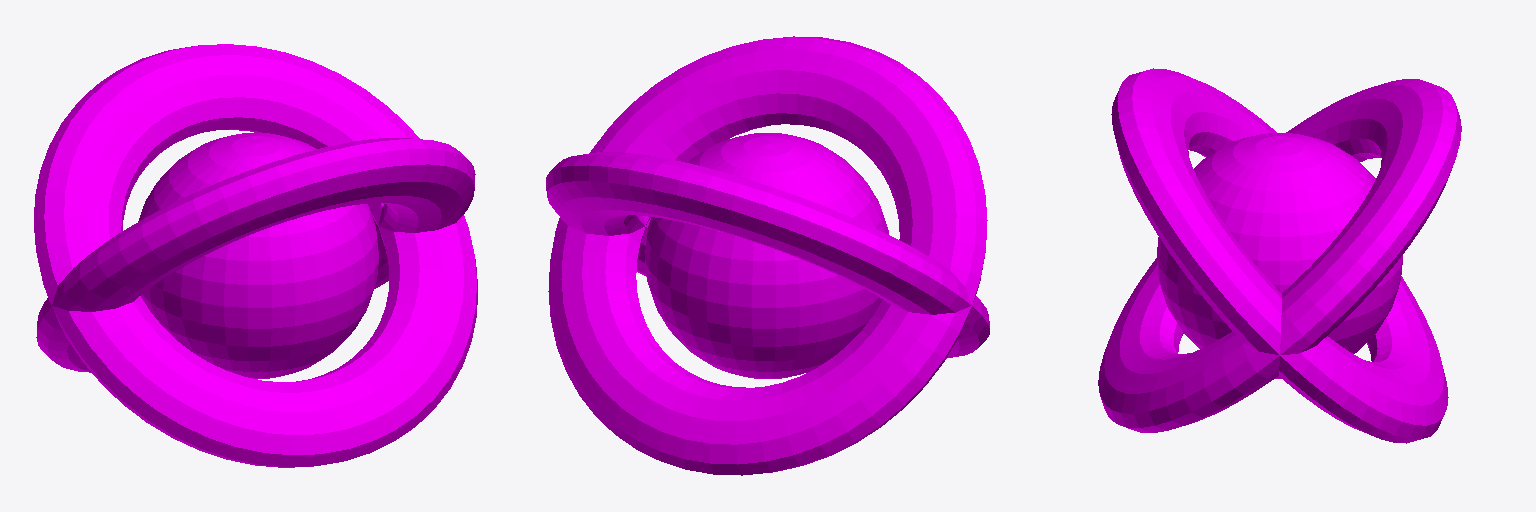
3 renders of one model, left to right at view 1: azimuth 30°, elevation 25°; view 2: azimuth 150°, elevation 25°; view 3: azimuth 270°, elevation 25°, orthographic.
Parts seen in each view (by area): view 1: 球; view 2: 球; view 3: 球.
Part boxes in pixels (x1,y1,x2,y2): 球: (34,44,477,467); 球: (546,36,989,475); 球: (1098,68,1461,443).
Bounding box in the file's own units: 1.98 × 1.48 × 1.53.
1 materials, 1 textured.